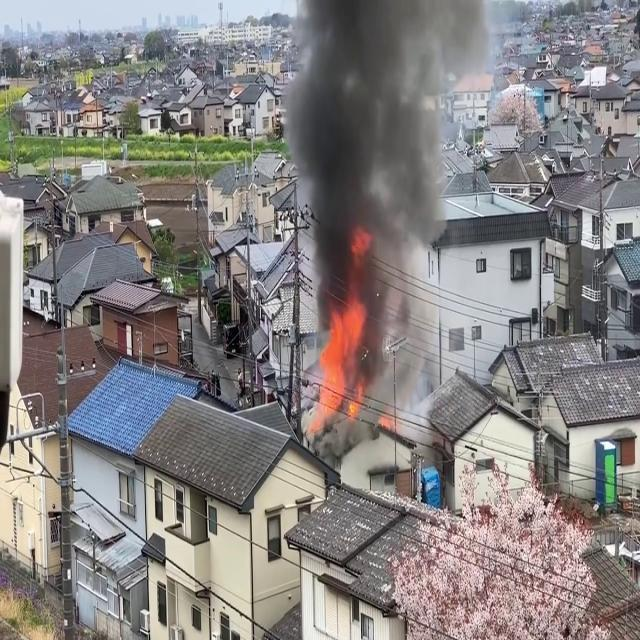Fire: (308, 300, 368, 427)
Smoke: (278, 0, 470, 390)
